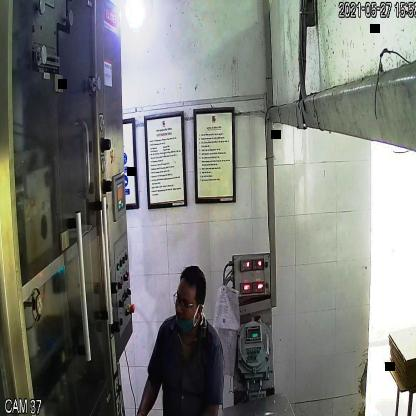goggles: (169, 285, 201, 313)
